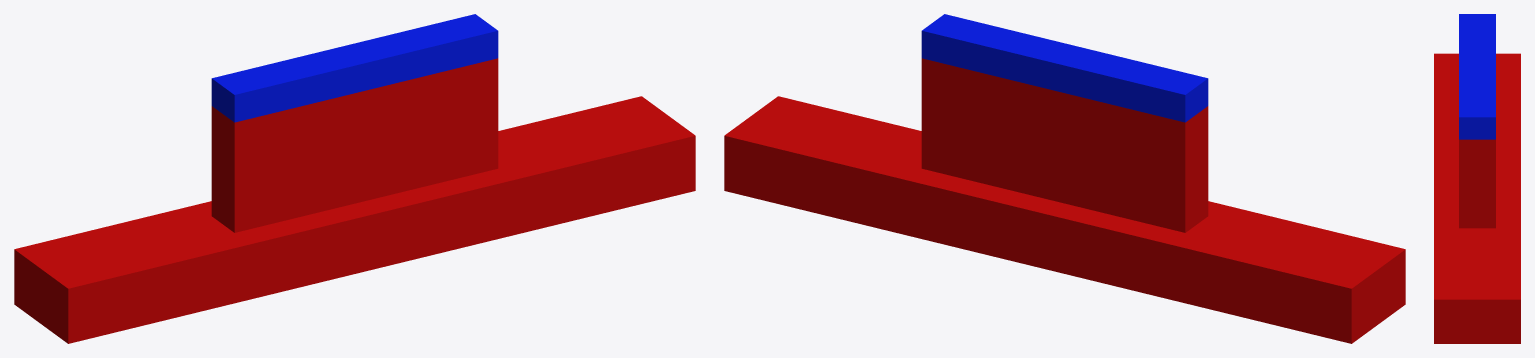
File: circuits-ConductorBlue.glb
3 views of the same model, side by side, from view 1: azimuth 30°, elevation 25°; view 2: azimuth 150°, elevation 25°; view 3: azimuth 270°, elevation 25° (orthographic). The views are drawn at different scales.
Visible parts, largest first — view 1: models-ConductorBlue; view 2: models-ConductorBlue; view 3: models-ConductorBlue.
Boxes of the visible parts, box(x1,y1,x2,y2) form: models-ConductorBlue: box(14, 14, 695, 343); models-ConductorBlue: box(724, 14, 1405, 343); models-ConductorBlue: box(1434, 14, 1520, 343).
Size of the model in its own units: 0.0952 by 0.028 by 0.0142.
